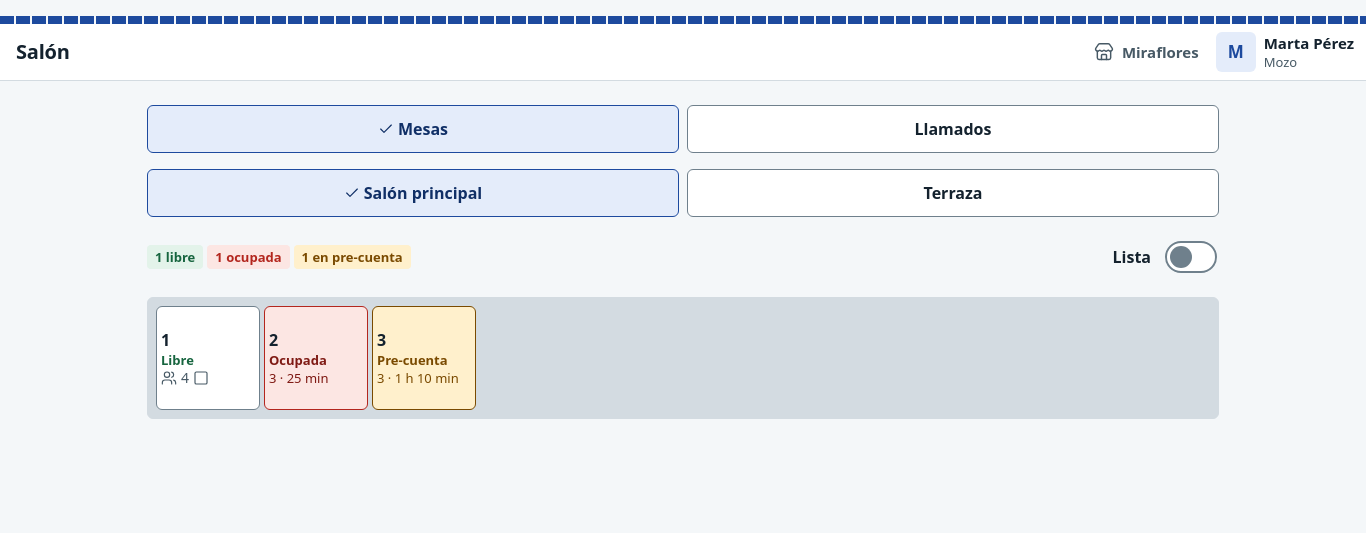
Test: Salón: la vista de lista (criterio 88) › el interruptor "Lista" muestra las mesas como filas y se recuerda
The width and height of the screenshot is (1366, 533).
Later steps or results of the test are not shown.
(page scrolled)
expect the table named "Mesas de Salón principal" is shown: met, box [147, 297, 1219, 419]
What coordinates should you click on to do the following:
click the switch named "Lista"
I would click on:
 (1191, 257)
Its box is [1163, 233, 1219, 281].
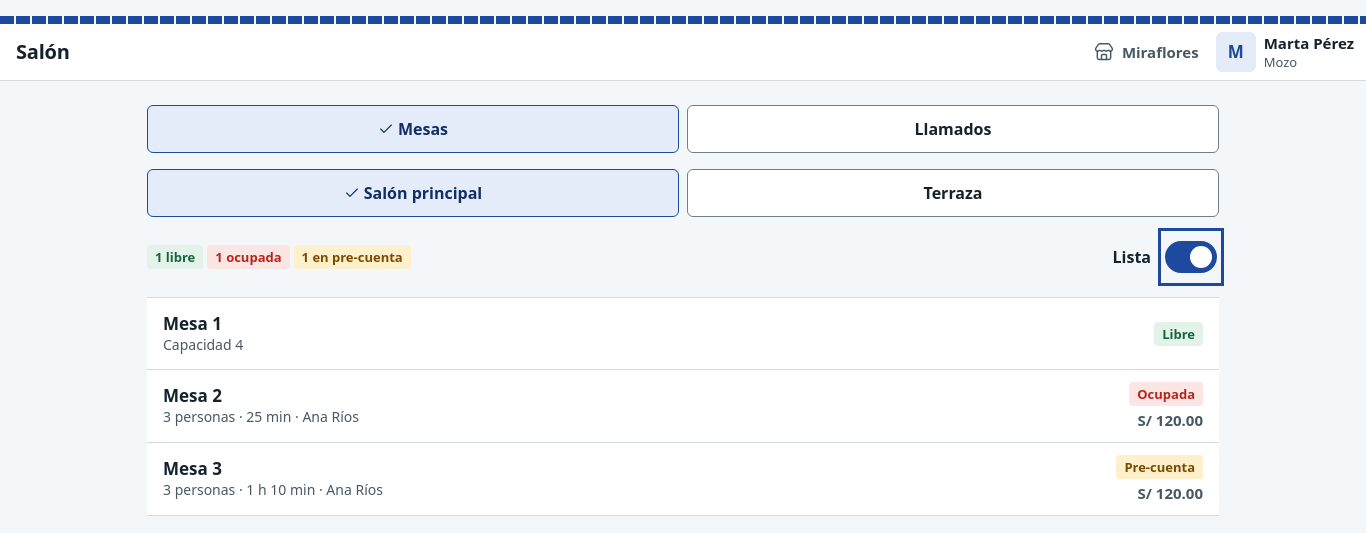
expect the number of list items is 3: met, box [147, 298, 1219, 370]; [147, 370, 1219, 443]; [147, 443, 1219, 515]
expect the list item "Mesa 1 Capacidad 4 Libre" is shown: met, box [147, 298, 1219, 370]
expect the list item "Mesa 2 3 personas · 25 min · Ana Ríos Ocupada S/ 120.00" is shown: met, box [147, 370, 1219, 443]
